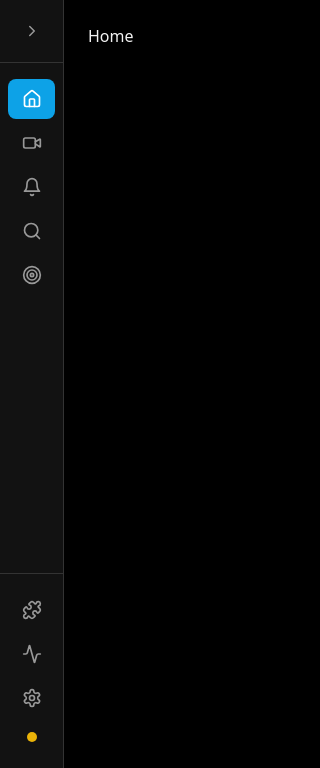
Test: Layout › should expand sidebar when expand button is clicked
The width and height of the screenshot is (320, 768).
Find and click the expand button
Click the button titled "Expand". click: (32, 31)
box: [16,16,46,46]
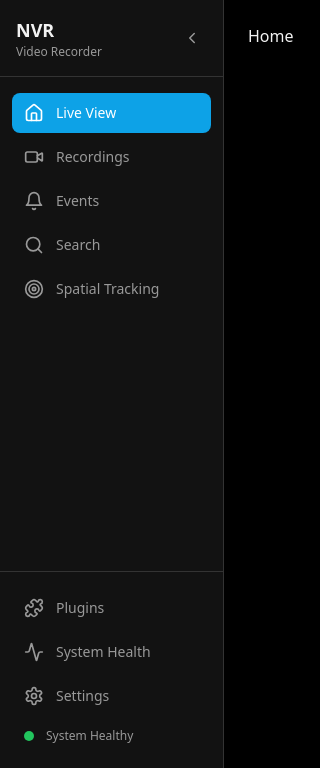
Check: the button titled "Collapse" is shown, box [177,23,207,53]
